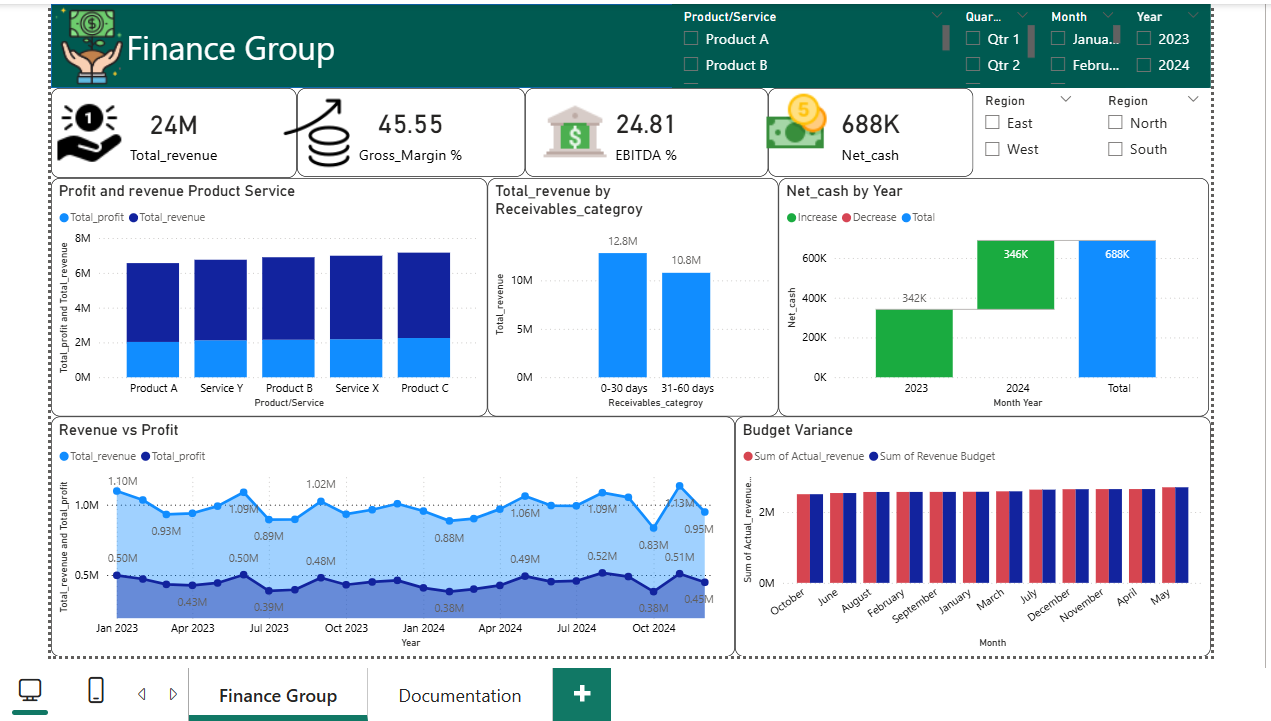

What the dashboard file says about the page in this screenshot:
{"tool":"powerbi","page":{"name":"Finance Group","canvas":[1280,720],"ordinal":0},"visuals":[{"type":"shape","box":[0,0,1278.8,92.8],"z":0},{"type":"card","fields":{"Values":["Data.Total_revenue"]},"box":[0,92.8,328,99.4],"z":1000},{"type":"card","fields":{"Values":["Data.Gross_Margin %"]},"box":[328,94.4,314.7,97.7],"z":2000},{"type":"card","fields":{"Values":["Data.EBITDA %"]},"box":[642.7,92.8,306.4,97.7],"z":3000},{"type":"card","fields":{"Values":["Data.Net_cash"]},"box":[949.2,94.4,329.6,97.7],"z":4000},{"type":"lineChart","title":"Revenue vs Profit","fields":{"Y":["Data.Total_revenue"],"Y2":["Data.Total_profit"],"Category":["Data.Month.Variation.Date Hierarchy.Year","Data.Month.Variation.Date Hierarchy.Quarter","Data.Month.Variation.Date Hierarchy.Month"]},"box":[0,455.5,755.4,265],"z":5000},{"type":"slicer","fields":{"Values":["Data.Month.Variation.Date Hierarchy.Quarter"]},"box":[997.2,0,94.4,92.8],"z":6000},{"type":"slicer","fields":{"Values":["Data.Month.Variation.Date Hierarchy.Month"]},"box":[1091.6,0,94.4,92.8],"z":7000},{"type":"slicer","fields":{"Values":["Data.Month.Variation.Date Hierarchy.Year"]},"box":[1186,0,94.4,92.8],"z":8000},{"type":"clusteredColumnChart","title":"Budget Variance","fields":{"Category":["Data.Month.Variation.Date Hierarchy.Year","Data.Month.Variation.Date Hierarchy.Month"],"Y":["Sum(Data.Revenue Budget)","Sum(Data.Revenue)"]},"box":[755.4,455.5,525.1,265],"z":9000},{"type":"columnChart","title":"Revenue Product Service ","fields":{"Category":["Data.Product/Service"],"Y":["Data.Total_revenue"]},"box":[0,192.2,482,263.4],"z":10000},{"type":"slicer","fields":{"Values":["Data.Region"]},"box":[841.5,0,120.9,92.8],"z":11000},{"type":"columnChart","fields":{"Category":["Data.Receivables_categroy"],"Y":["Data.Total_revenue"]},"box":[482,192.2,321.4,263.4],"z":12000},{"type":"waterfallChart","fields":{"Y":["Data.Waterfall Value"],"Category":["Flow Type.Type"]},"box":[803.4,192.2,475.4,263.4],"z":13000},{"type":"slicer","fields":{"Values":["Data.Product/Service"]},"box":[685.8,0,155.7,92.8],"z":14000},{"type":"actionButton","box":[0,0,100,40],"z":15000}]}

Visuals, with their boxes on the page's 1280x720 design canvas (x1, y1, x2, y2). These are canvas units, not pixel positions in the 1271x721 screenshot, which may show the page scaled, cropped or inside an application window:
shape: select_region(0, 0, 1279, 93)
card - Data.Total_revenue: select_region(0, 93, 328, 192)
card - Data.Gross_Margin %: select_region(328, 94, 643, 192)
card - Data.EBITDA %: select_region(643, 93, 949, 190)
card - Data.Net_cash: select_region(949, 94, 1279, 192)
"Revenue vs Profit" lineChart: select_region(0, 456, 755, 720)
slicer - Data.Month.Variation.Date Hierarchy.Quarter: select_region(997, 0, 1092, 93)
slicer - Data.Month.Variation.Date Hierarchy.Month: select_region(1092, 0, 1186, 93)
slicer - Data.Month.Variation.Date Hierarchy.Year: select_region(1186, 0, 1280, 93)
"Budget Variance" clusteredColumnChart: select_region(755, 456, 1280, 720)
"Revenue Product Service " columnChart: select_region(0, 192, 482, 456)
slicer - Data.Region: select_region(842, 0, 962, 93)
columnChart - Data.Receivables_categroy x Data.Total_revenue: select_region(482, 192, 803, 456)
waterfallChart - Data.Waterfall Value x Flow Type.Type: select_region(803, 192, 1279, 456)
slicer - Data.Product/Service: select_region(686, 0, 842, 93)
actionButton: select_region(0, 0, 100, 40)
